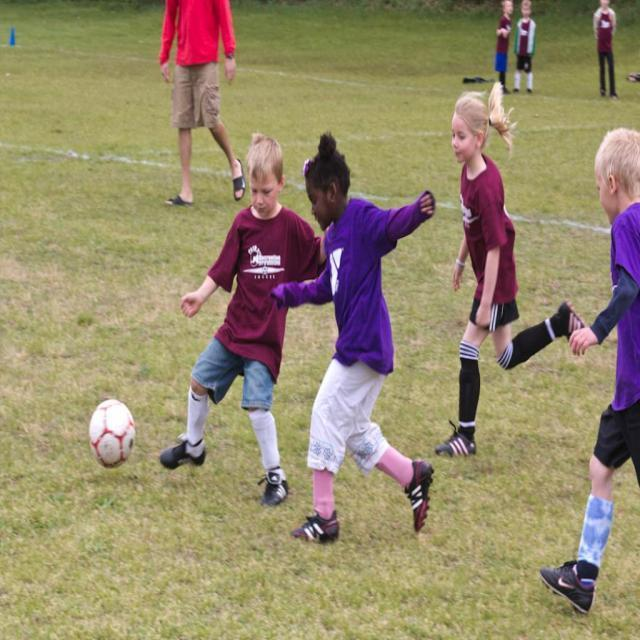ball: (88, 396, 137, 472)
